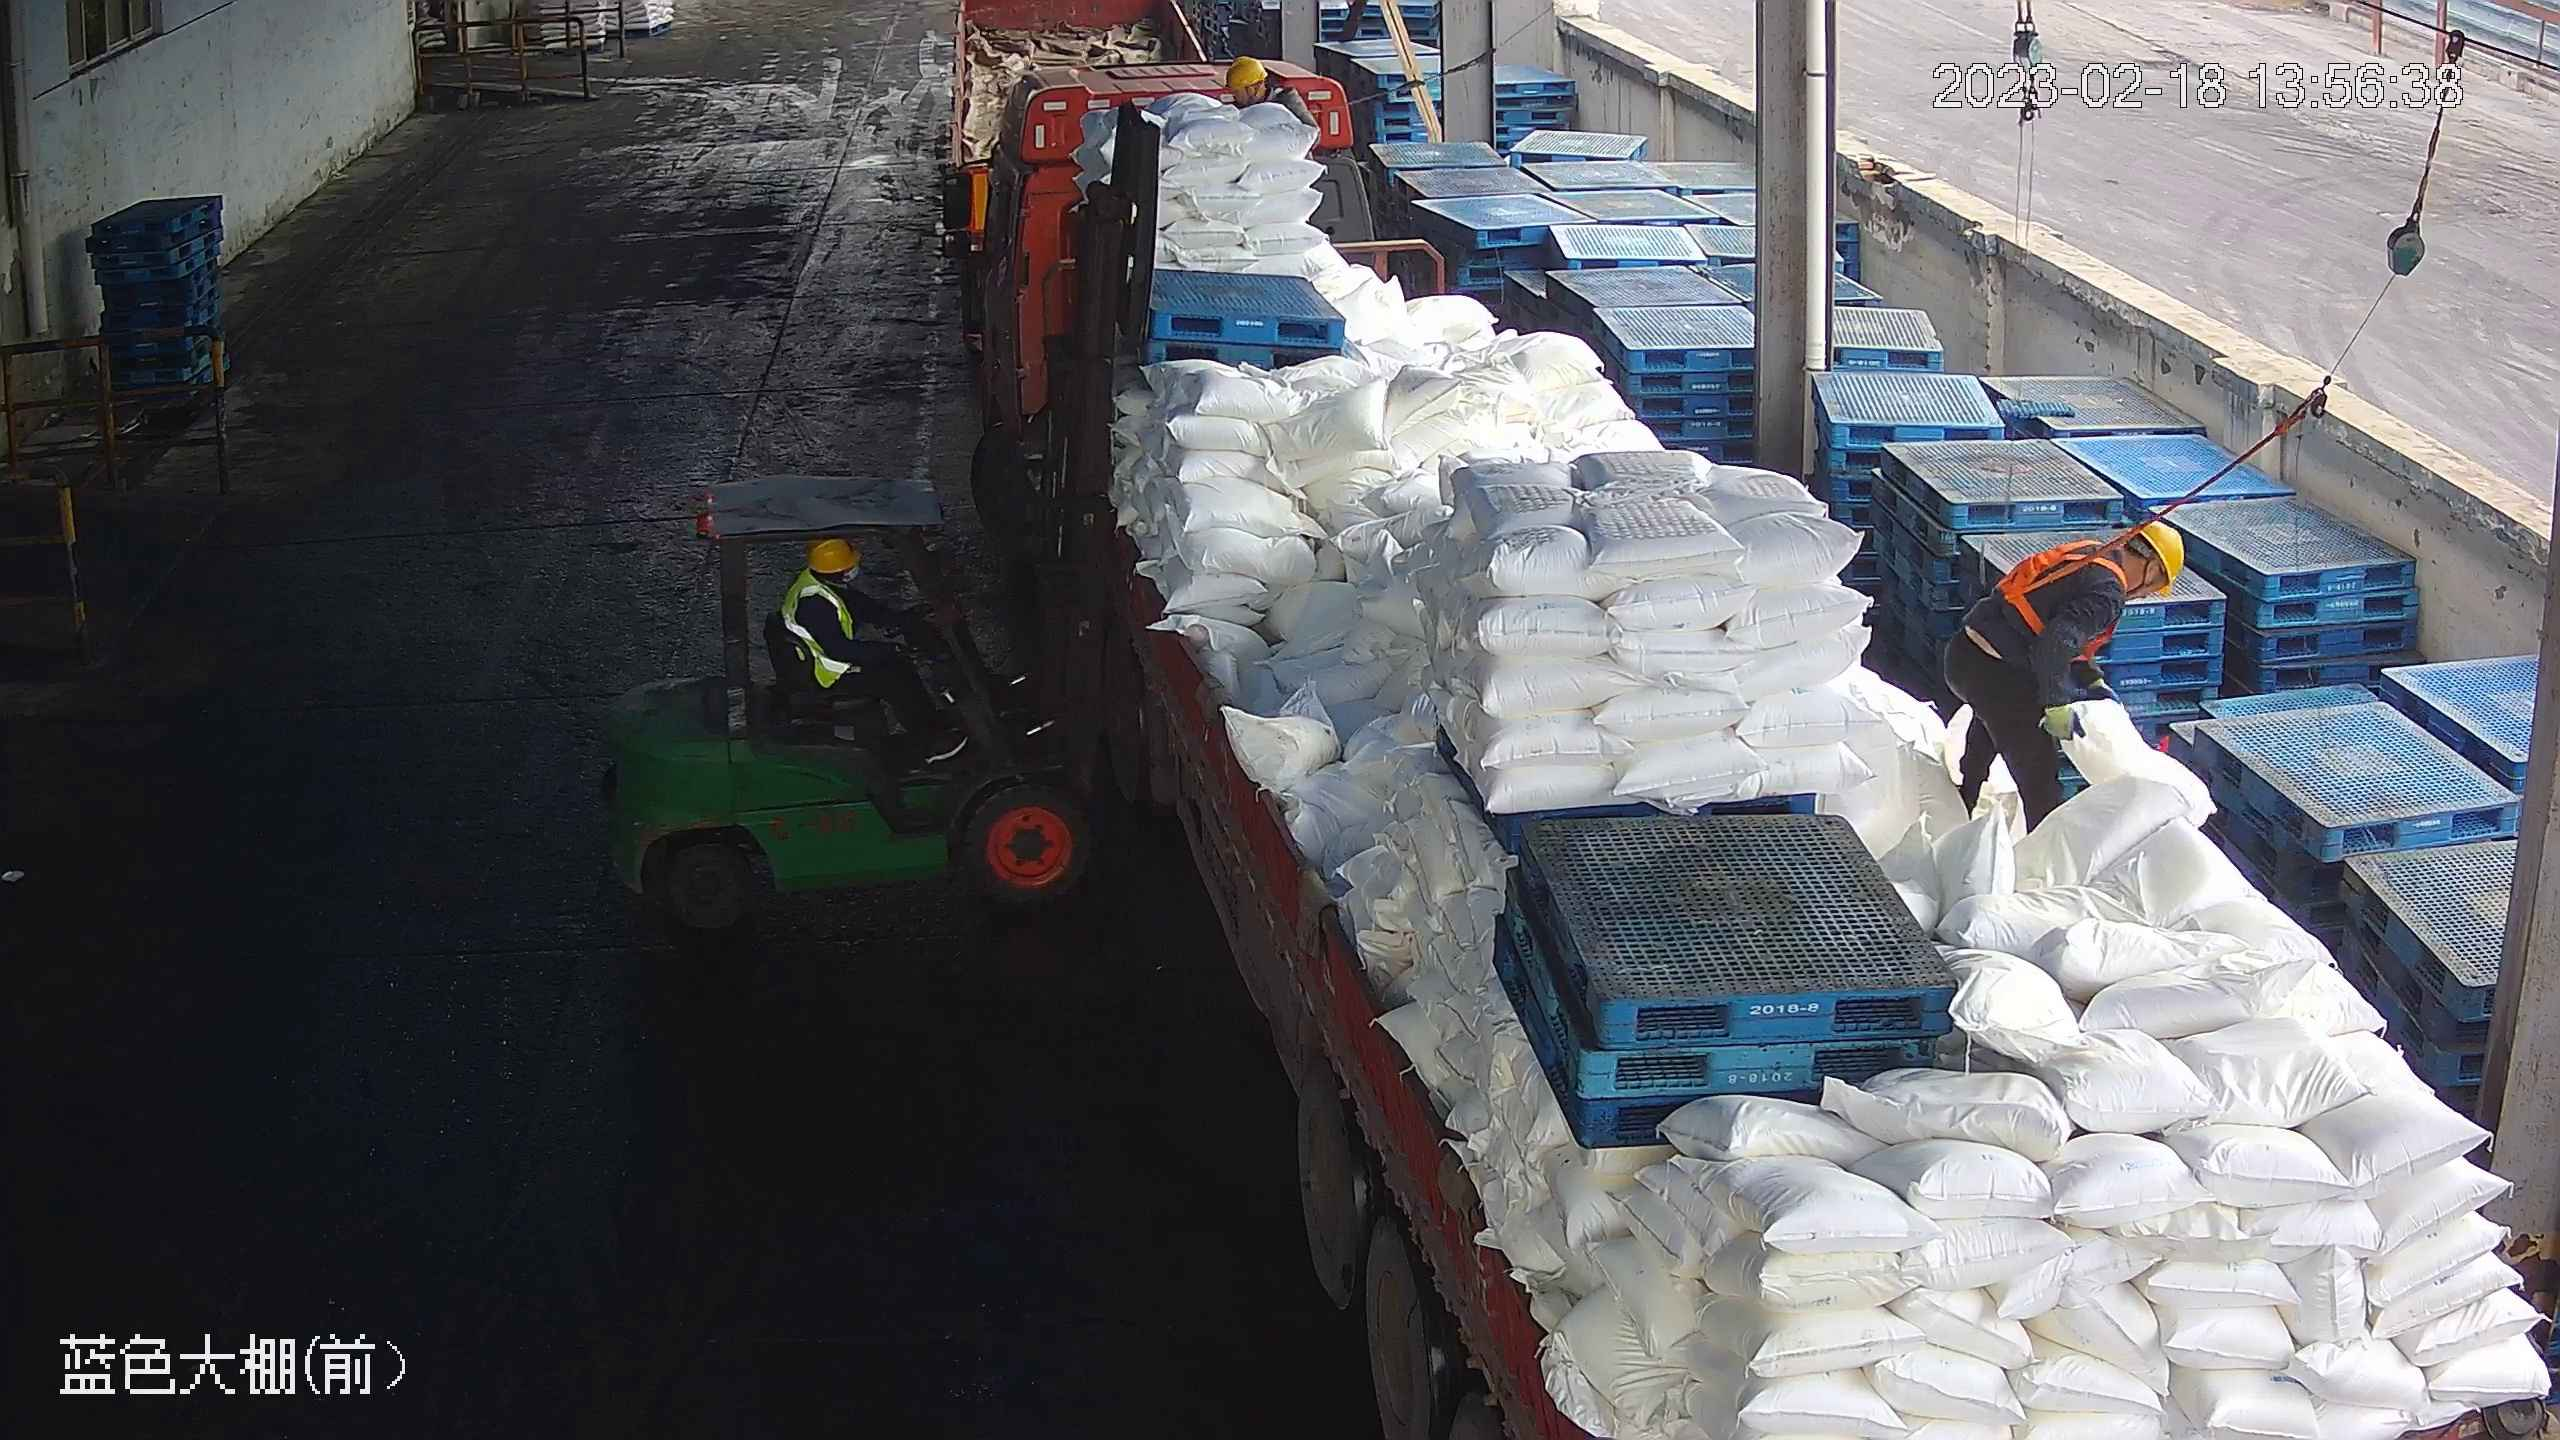belt: (1988, 542, 2123, 660)
head: (2040, 515, 2186, 645), (785, 534, 865, 625)
helmet: (2126, 515, 2187, 593), (809, 534, 858, 572), (1223, 55, 1269, 90)
people: (1937, 516, 2188, 833), (782, 532, 969, 763)
truck: (937, 48, 2559, 1440)
